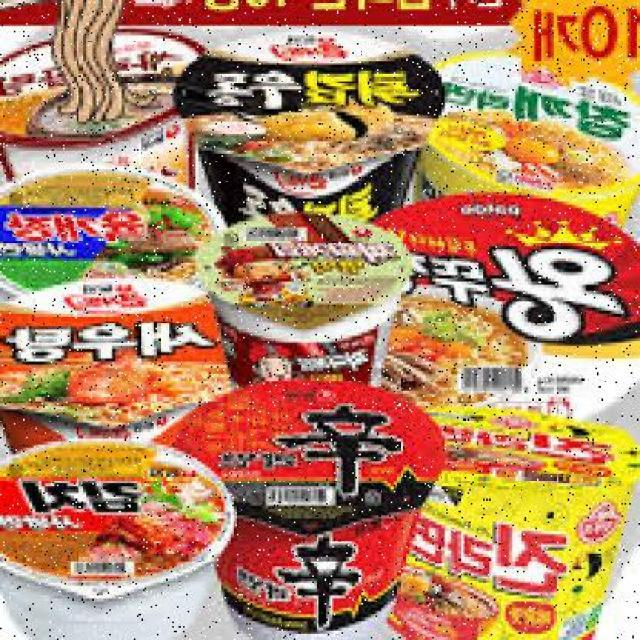Miscellaneous: (338, 188, 640, 446), (166, 374, 442, 640), (352, 415, 640, 640), (194, 26, 434, 251), (0, 438, 231, 640), (0, 272, 246, 452), (403, 57, 640, 234), (189, 214, 403, 408), (0, 18, 212, 204), (0, 166, 222, 311)
